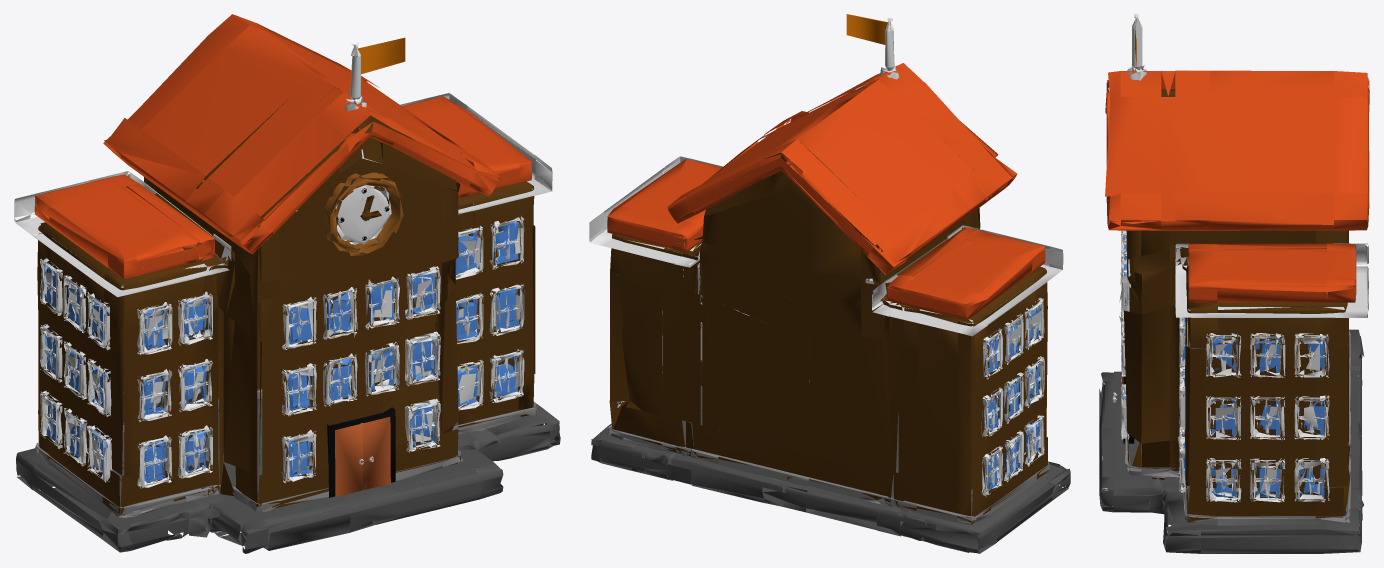
The model's file is nanyang.glb.
3 renders of one model, left to right at view 1: azimuth 30°, elevation 25°; view 2: azimuth 150°, elevation 25°; view 3: azimuth 270°, elevation 25°, orthographic. The views are drawn at different scales.
Visible parts, largest first — view 1: Cube.1057; view 2: Cube.1057; view 3: Cube.1057.
Boxes of the visible parts, x1=… form: Cube.1057: x1=14, y1=14, x2=560, y2=553; Cube.1057: x1=589, y1=14, x2=1070, y2=553; Cube.1057: x1=1099, y1=14, x2=1369, y2=553.
Size of the model in its own units: 1 by 1.02 by 0.5617.
